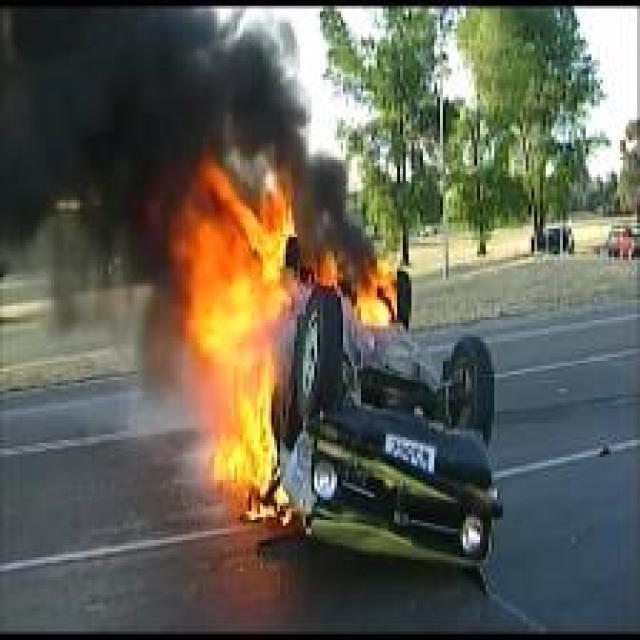Fire: (170, 148, 298, 526), (354, 252, 400, 324), (316, 252, 338, 288)
